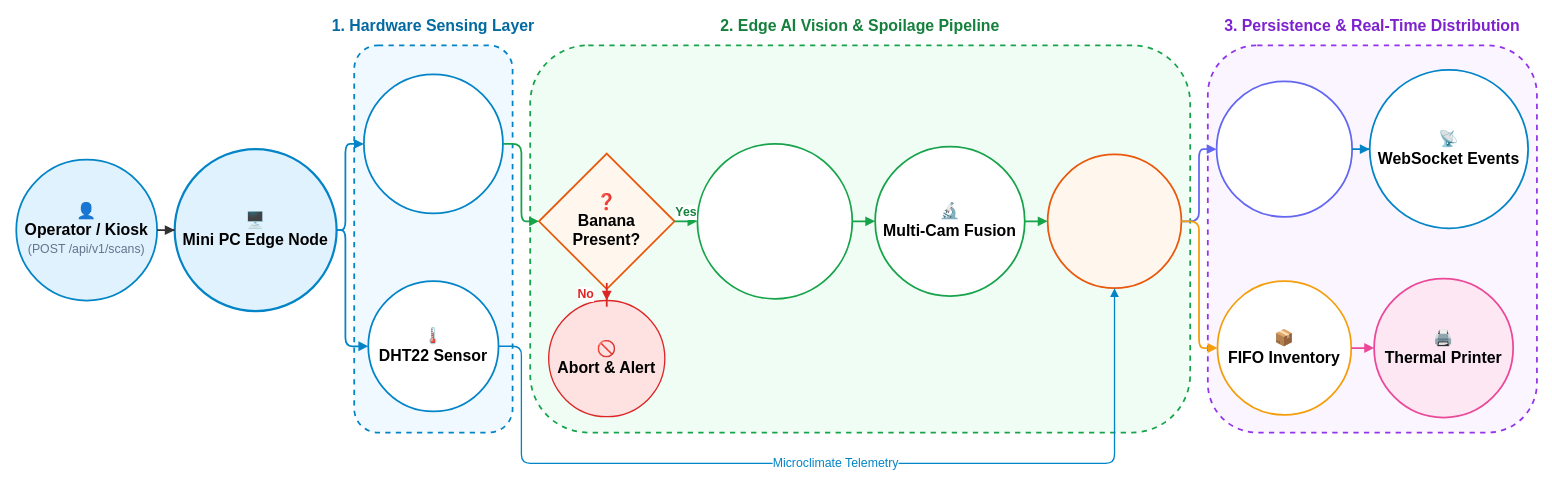
Some shapes in this 1552 by 486 pixel diagram are drawn without their labels. Each missing label, with the centre of its shape:
"⏱️ Spoilage Model" belongs at point 1114,221.
"🎯 YOLOv8 Detection" belongs at point 774,221.
"💾 PostgreSQL DB" belongs at point 1284,148.
"📷 4-Camera Array" belongs at point 433,143.
